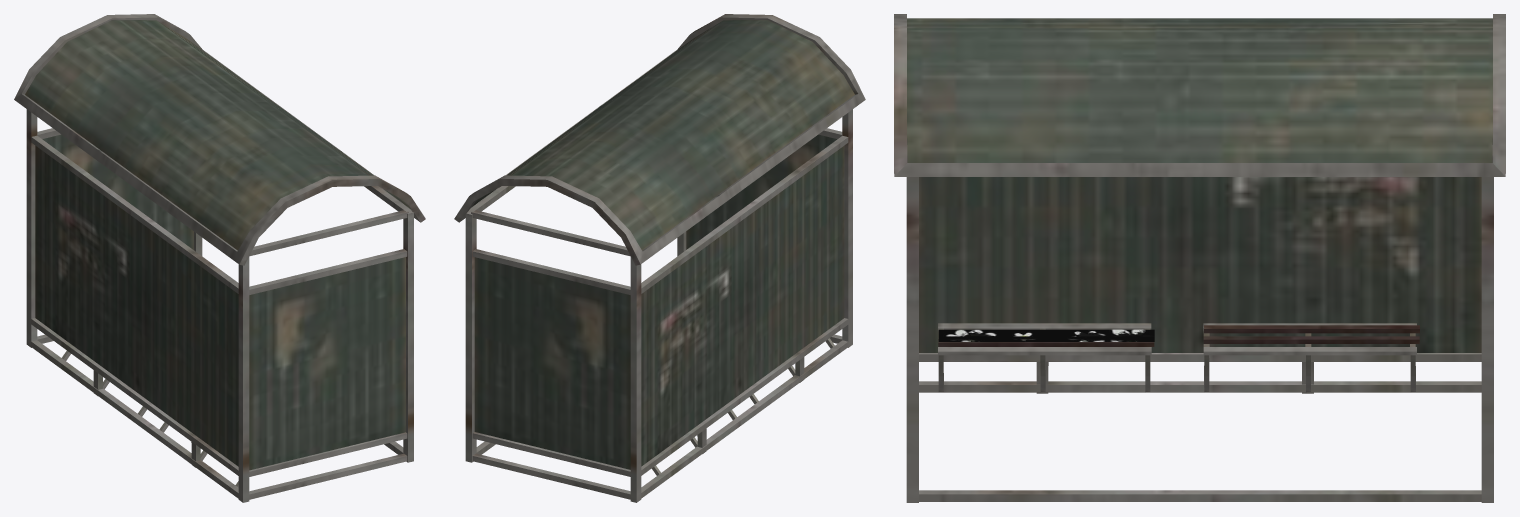
File: bus-stop-shelter.glb
The picture shows the model from 3 angles, left to right: view 1: azimuth 30°, elevation 25°; view 2: azimuth 150°, elevation 25°; view 3: azimuth 270°, elevation 25°; orthographic projection. The views are drawn at different scales.
Parts seen in each view (by area): view 1: model_st1:polySurface33polySurface38; view 2: model_st1:polySurface33polySurface38; view 3: model_st1:polySurface33polySurface38, pPlane1.
Boxes of the visible parts, x1=… form: model_st1:polySurface33polySurface38: x1=14, y1=14, x2=425, y2=502; model_st1:polySurface33polySurface38: x1=454, y1=14, x2=865, y2=502; model_st1:polySurface33polySurface38: x1=894, y1=14, x2=1505, y2=502; pPlane1: x1=938, y1=329, x2=1154, y2=341.
Bounding box in the file's own units: 1.67 × 2.62 × 3.5.
2 materials, 2 textured.
